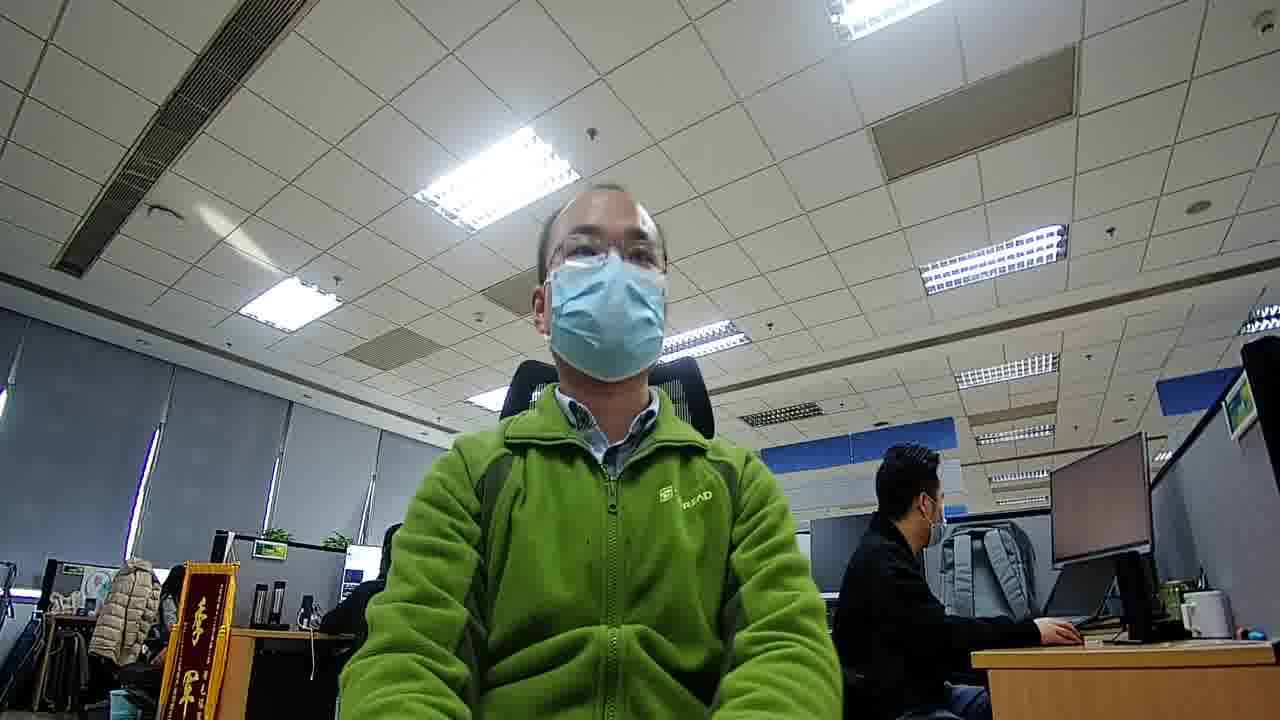face: (546, 208, 665, 380)
mask: (544, 250, 665, 385)
person: (411, 165, 794, 510), (842, 440, 956, 607), (161, 562, 187, 610)
